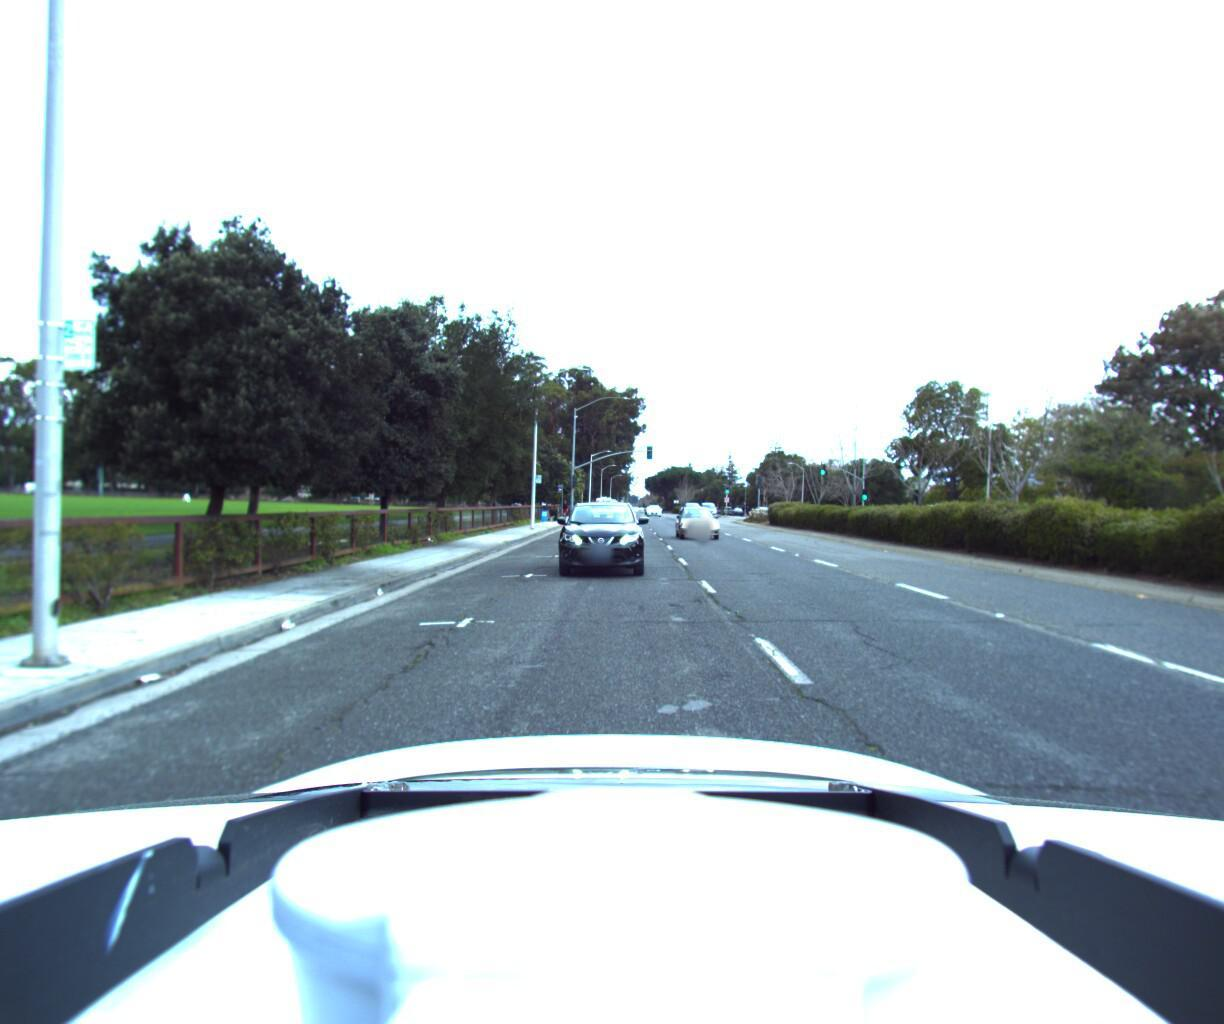bicycle: (558, 499, 576, 519)
car: (549, 497, 648, 580), (672, 506, 726, 543)
